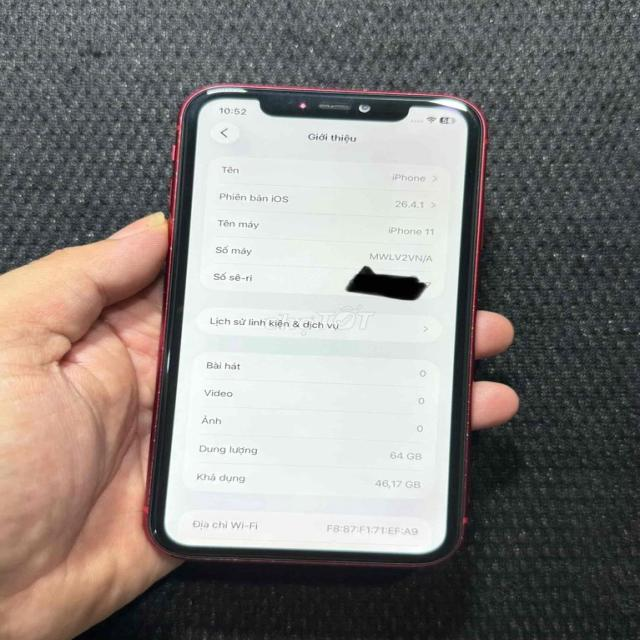gen_11: (149, 86, 486, 566)
